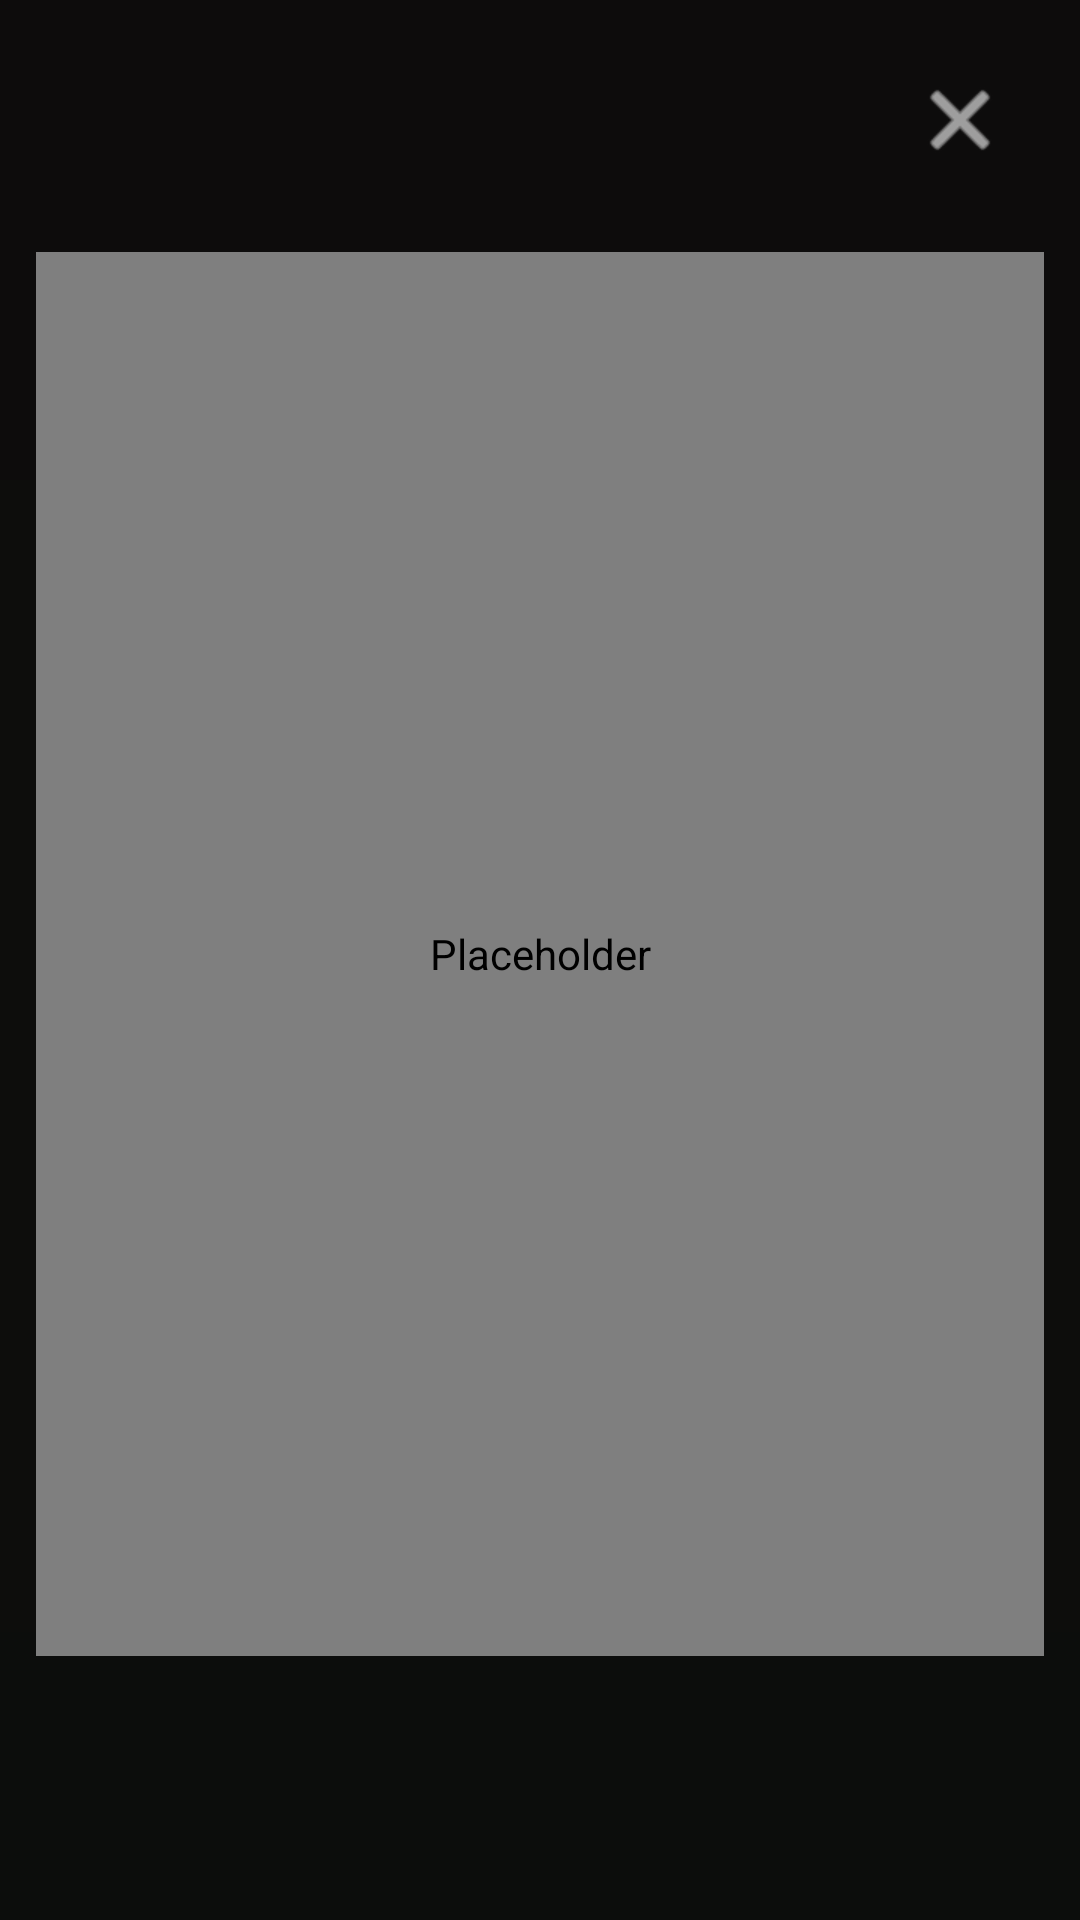

Icons on this 1080×1920 Android screen, each with the point to tap as point (x, y):
close clear cancel: point (960, 120)
